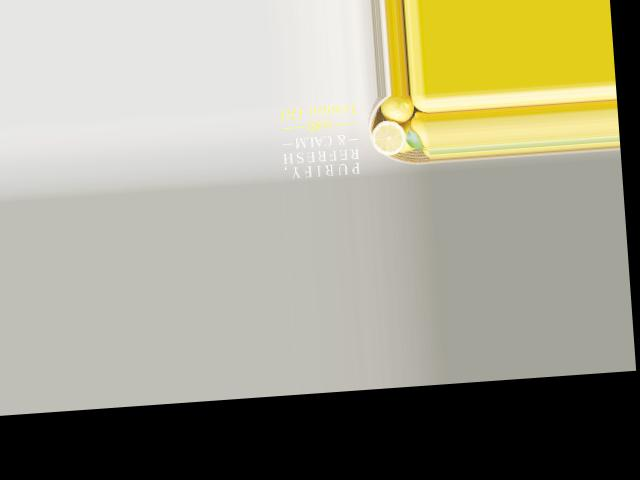lemon: (381, 93, 414, 124)
